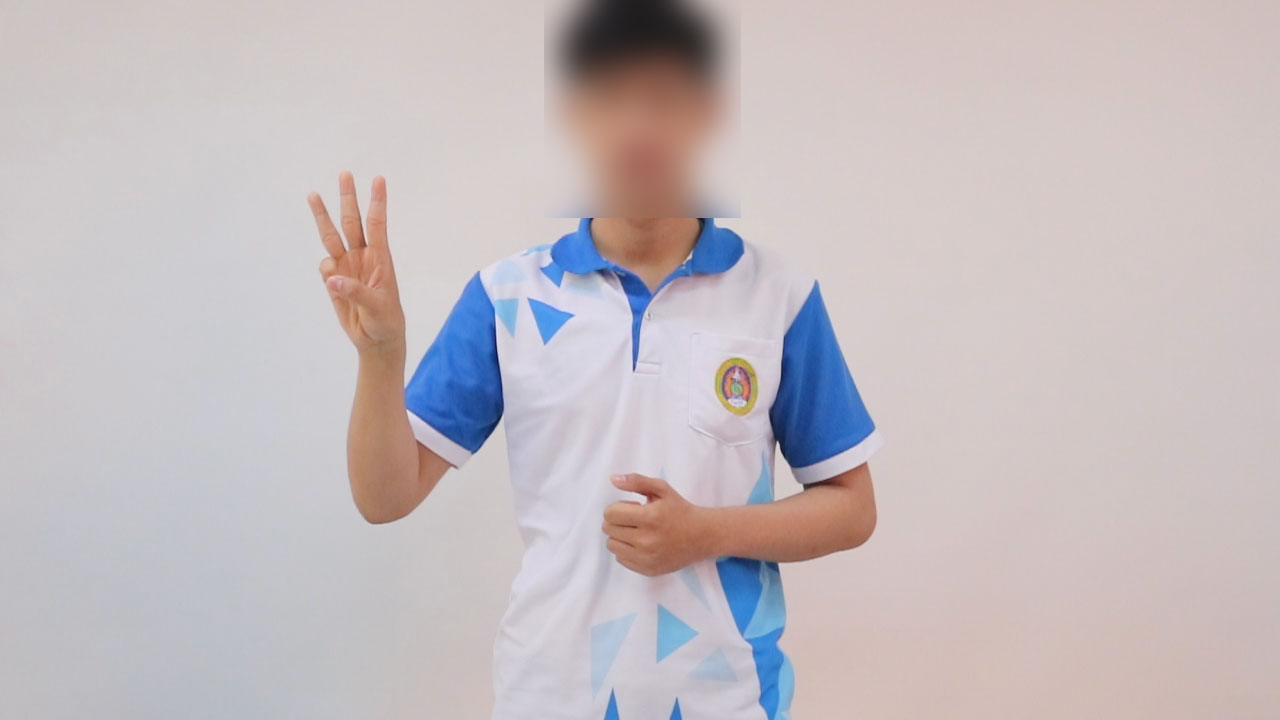wor: (296, 163, 413, 370)
